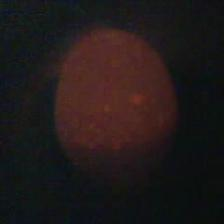fertile: (49, 25, 181, 189)
